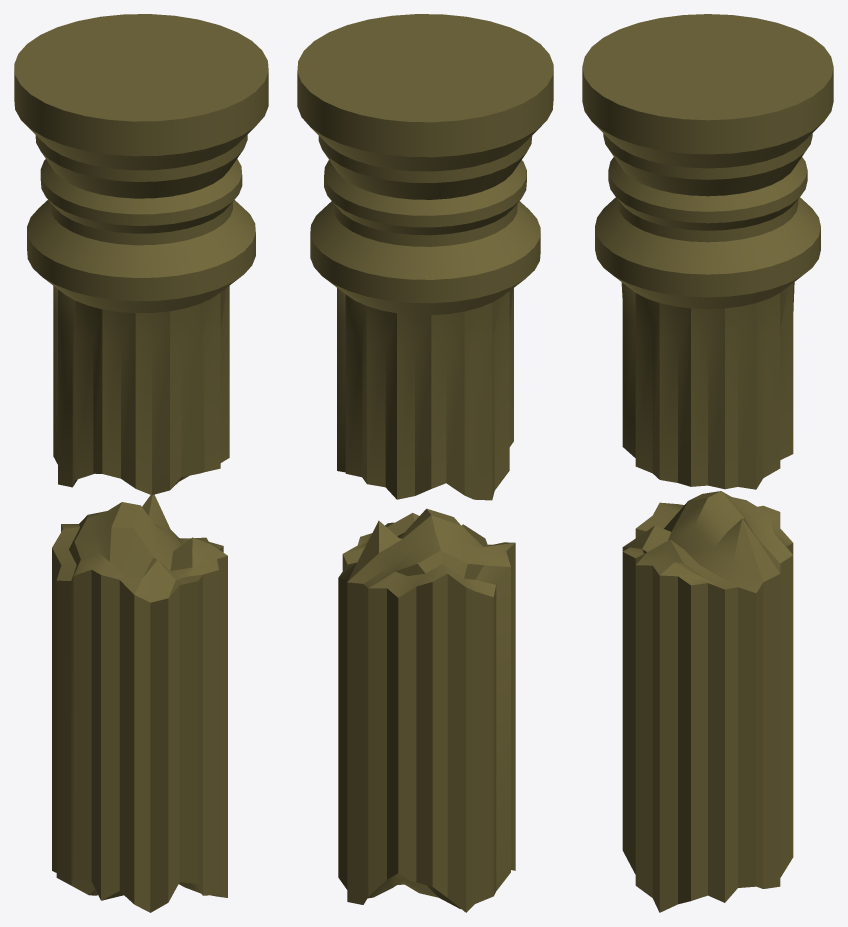
The model's file is column_broken_half.fbx.
The picture shows the model from 3 angles, left to right: view 1: azimuth 30°, elevation 25°; view 2: azimuth 150°, elevation 25°; view 3: azimuth 270°, elevation 25°; orthographic projection. The views are drawn at different scales.
Visible parts, largest first — view 1: Column_Broken_Top_2, Column_Broken_Half; view 2: Column_Broken_Top_2, Column_Broken_Half; view 3: Column_Broken_Top_2, Column_Broken_Half.
Boxes of the visible parts, x1,y1,x2,y2 form: Column_Broken_Top_2: (14,14,268,495); Column_Broken_Half: (52,494,227,912); Column_Broken_Top_2: (297,14,553,500); Column_Broken_Half: (338,508,515,912); Column_Broken_Top_2: (582,14,833,489); Column_Broken_Half: (622,491,793,912).
Bounding box in the file's own units: 171 × 612 × 171.
